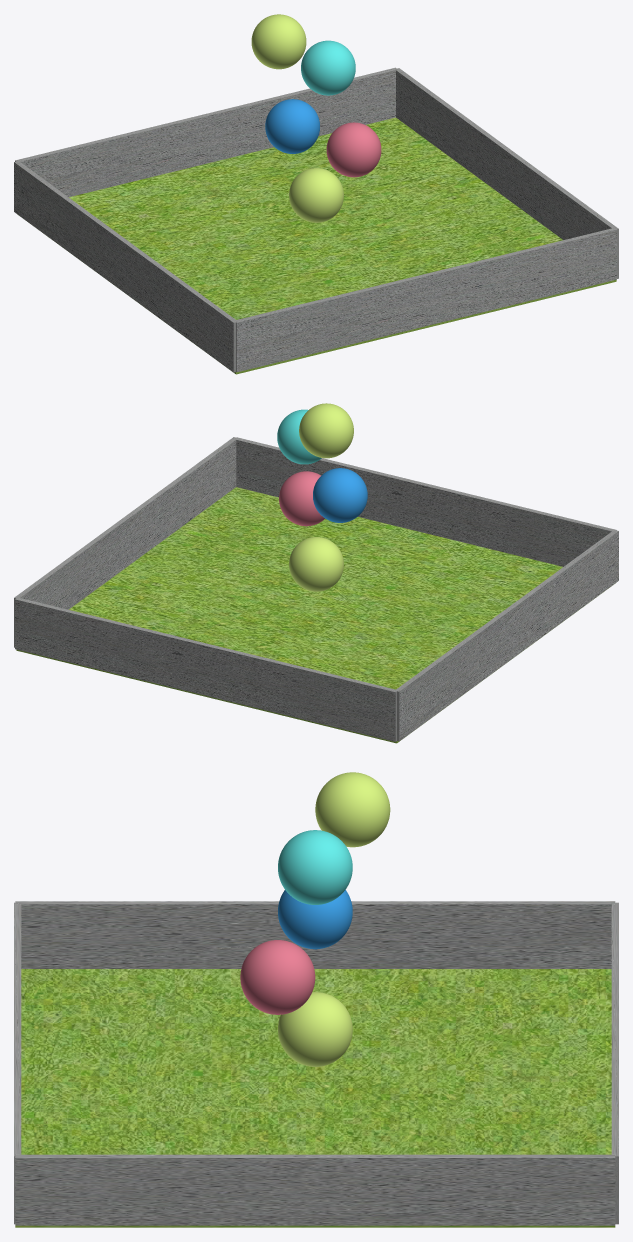
Rendered from physics_ball_pit.gltf.
The picture shows the model from 3 angles, top to bottom: view 1: azimuth 30°, elevation 25°; view 2: azimuth 150°, elevation 25°; view 3: azimuth 270°, elevation 25°; orthographic projection. The views are drawn at different scales.
Parts seen in each view (by area): view 1: Floor, WallSouth, WallNorth, WallWest, WallEast, BallMesh2, BallMesh5, BallMesh4, BallMesh3, BallMesh1; view 2: Floor, WallNorth, WallSouth, WallWest, WallEast, BallMesh5, BallMesh3, BallMesh1, BallMesh2, BallMesh4; view 3: Floor, WallEast, WallWest, BallMesh2, BallMesh4, BallMesh5, BallMesh1, BallMesh3, WallNorth, WallSouth.
Boxes of the visible parts, x1,y1,x2,y2 form: Floor: (17,117,616,374); WallSouth: (236,228,616,372); WallNorth: (15,67,396,197); WallWest: (14,161,237,372); WallEast: (395,68,618,278); BallMesh2: (326,122,381,177); BallMesh5: (251,14,306,69); BallMesh4: (301,40,355,95); BallMesh3: (265,99,319,153); BallMesh1: (289,168,343,222); Floor: (16,487,615,743); WallNorth: (15,597,397,741); WallSouth: (236,437,616,566); WallWest: (396,530,618,741); WallEast: (14,437,237,647); BallMesh5: (299,403,353,458); BallMesh3: (313,468,367,522); BallMesh1: (289,537,343,591); BallMesh2: (279,471,325,526); BallMesh4: (277,409,321,464); Floor: (15,969,615,1227); WallEast: (15,1154,615,1225); WallWest: (15,901,615,968); BallMesh2: (240,940,315,1014); BallMesh4: (278,830,352,904); BallMesh5: (315,772,390,847); BallMesh1: (278,992,352,1066); BallMesh3: (278,890,352,949); WallNorth: (611,902,618,1224); WallSouth: (14,902,21,1224).
Bounding box in the file's own units: 8.1 × 4.55 × 8.07.
8 materials, 4 textured.
